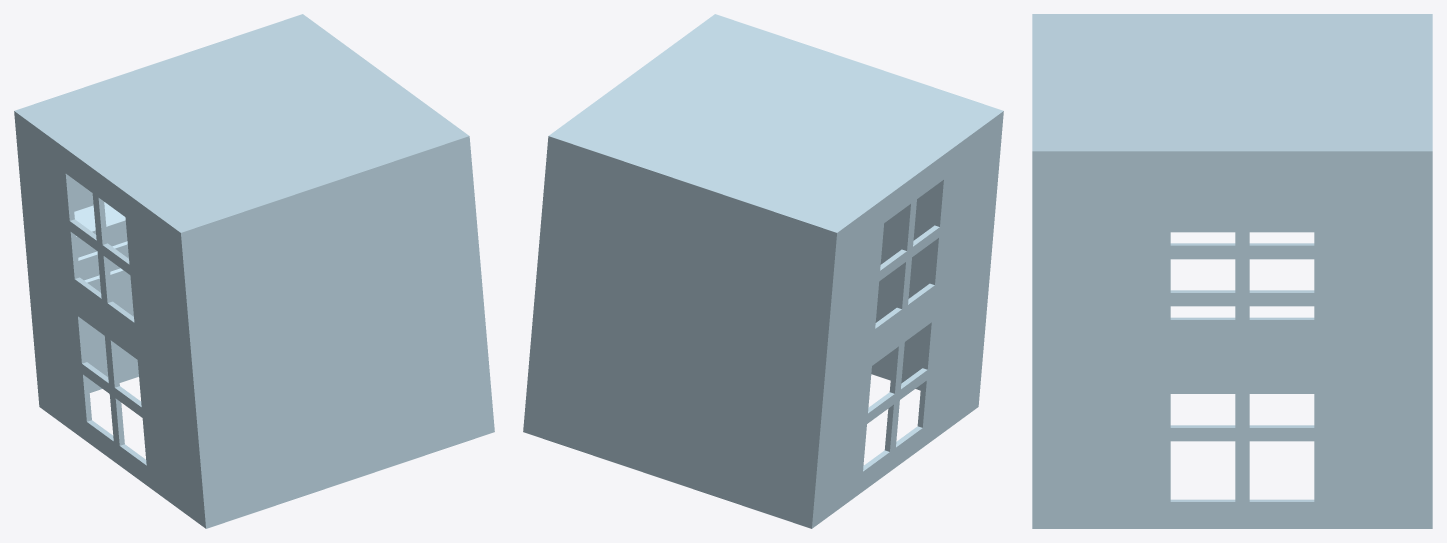
The model's file is Assembly.gltf.
The picture shows the model from 3 angles, left to right: view 1: azimuth 30°, elevation 25°; view 2: azimuth 150°, elevation 25°; view 3: azimuth 270°, elevation 25°; orthographic projection. The views are drawn at different scales.
Parts seen in each view (by area): view 1: Part 1 (×5); view 2: Part 1 (×4); view 3: Part 1 (×5).
Boxes of the visible parts, bbox=[...] form: Part 1 (×5): bbox=[14, 14, 494, 528]; Part 1 (×4): bbox=[523, 14, 1003, 528]; Part 1 (×5): bbox=[1032, 14, 1432, 528].
Size of the model in its own units: 0.1517 by 0.1517 by 0.1395.
